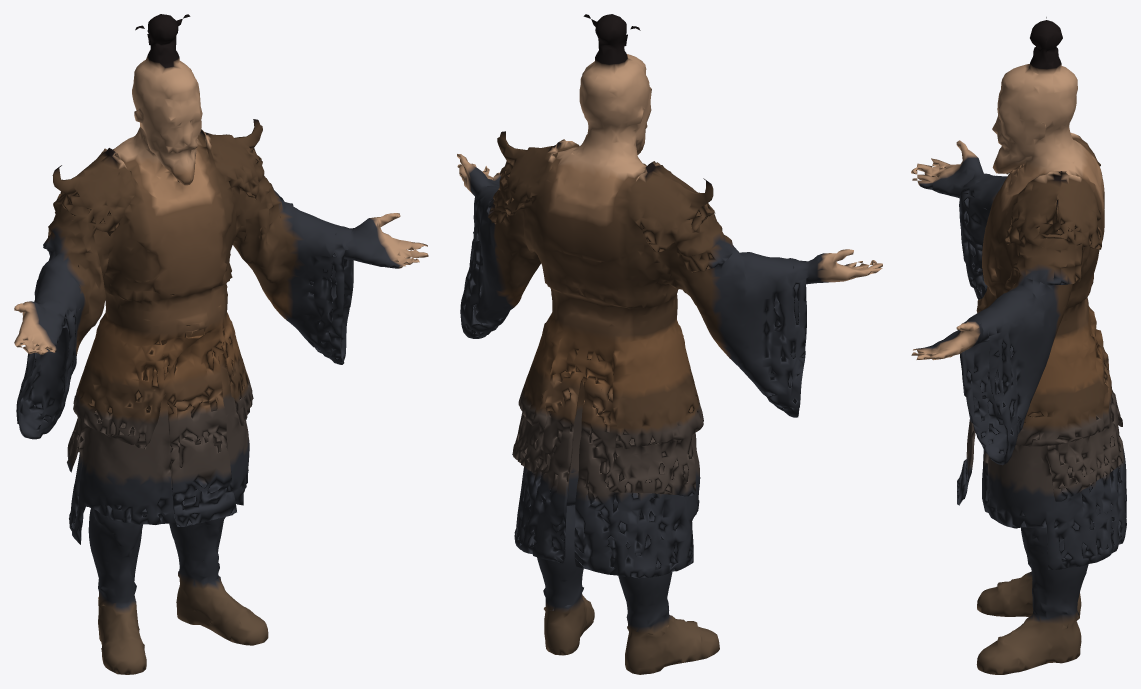
The model's file is general.glb.
3 views of the same model, side by side, from view 1: azimuth 30°, elevation 25°; view 2: azimuth 150°, elevation 25°; view 3: azimuth 270°, elevation 25° (orthographic). The views are drawn at different scales.
Parts seen in each view (by area): view 1: general; view 2: general; view 3: general.
Part boxes in pixels (bbox=[...]): general: bbox=[14, 14, 428, 674]; general: bbox=[457, 14, 882, 674]; general: bbox=[911, 17, 1126, 674].
Bounding box in the file's own units: 1.32 × 1.9 × 0.6017.
